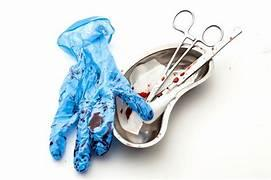Glove: (50, 17, 152, 171)
